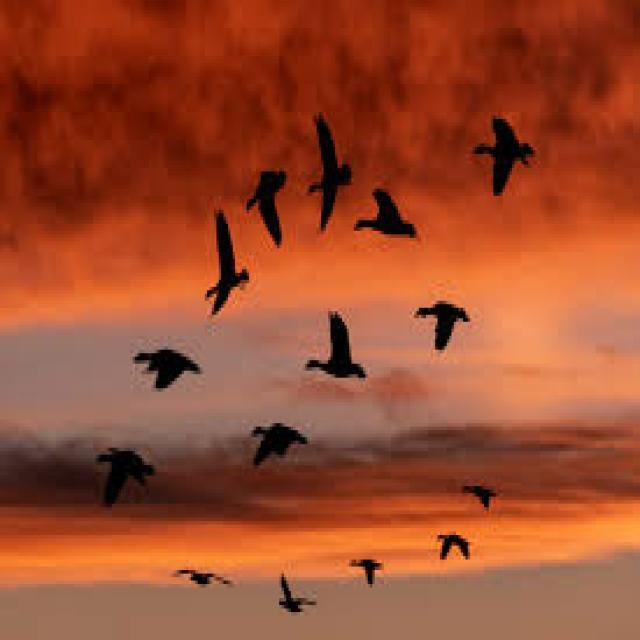bird: (192, 212, 276, 328), (296, 106, 364, 236), (474, 78, 538, 212), (240, 134, 305, 260), (302, 302, 381, 404), (80, 428, 166, 516), (399, 287, 481, 367), (113, 322, 199, 398), (346, 180, 432, 250), (244, 408, 322, 484), (260, 544, 324, 621), (177, 544, 240, 614), (329, 547, 408, 600), (459, 463, 506, 523), (428, 530, 484, 579)
